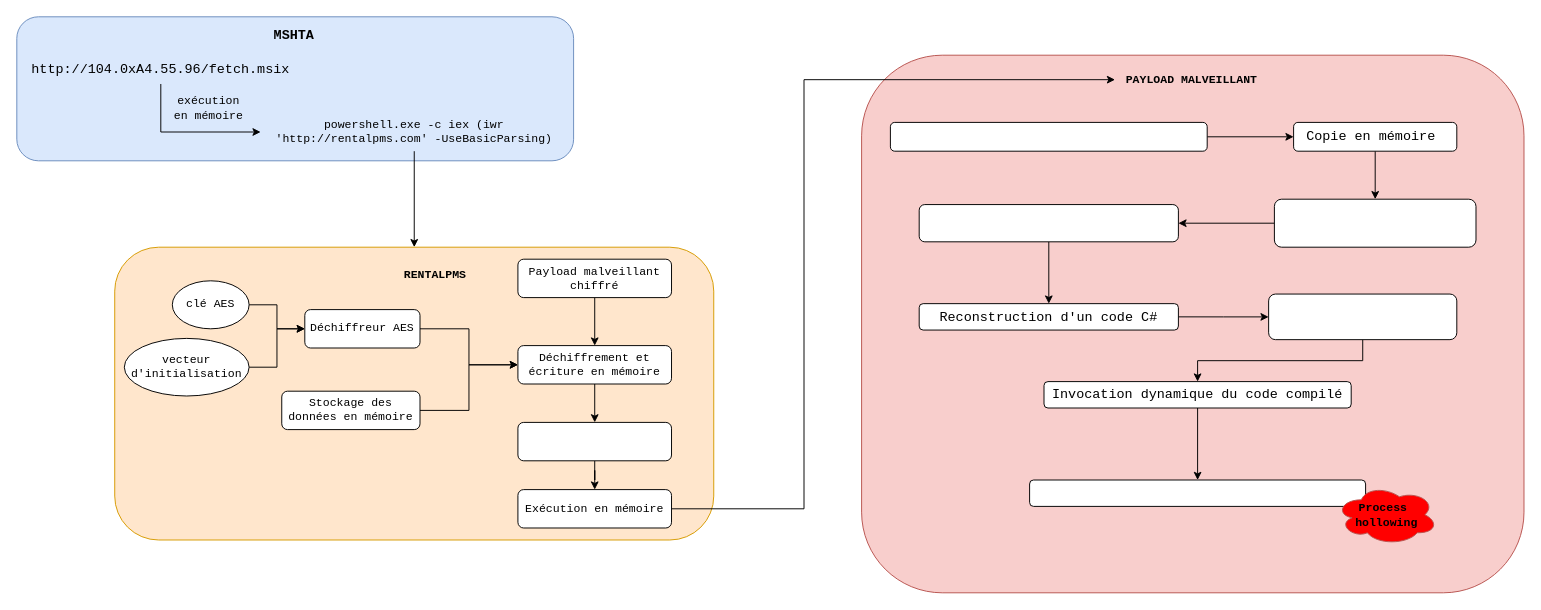
Image size: 1541x610. Some labels were removed from this diagram. Each missing label, with the centre of its shape:
"Chargement d'une ressource embarquée" goes at pixel 1048 136.
"Chargement en tant qu'assembly .NET" goes at pixel 594 441.
"Compilation dynamique en mémoire" goes at pixel 1362 316.
"Extraction et déchiffrement des données cachées" goes at pixel 1048 223.
"Injection malveillante dans notepad.exe" goes at pixel 1197 492.
"Interprétation comme une image Bitmap" goes at pixel 1374 222.
